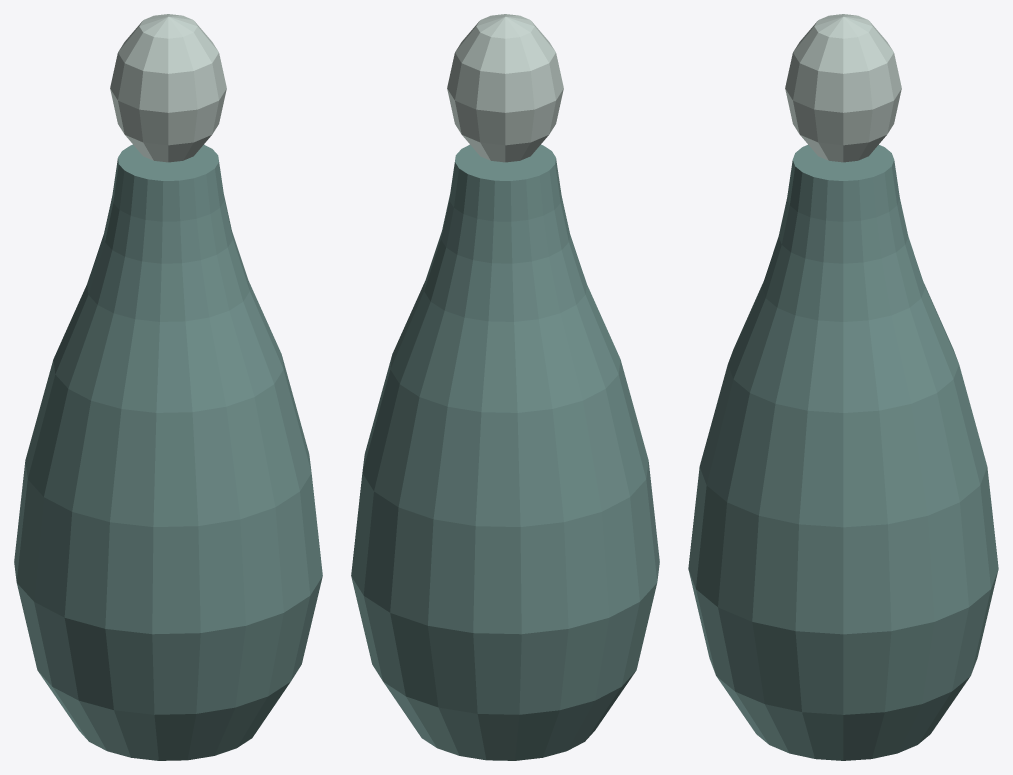
File: grotto_apothecary_bottle_LOD0_roblox.fbx
3 renders of one model, left to right at view 1: azimuth 30°, elevation 25°; view 2: azimuth 150°, elevation 25°; view 3: azimuth 270°, elevation 25°, orthographic.
Parts seen in each view (by area): view 1: apo_Glass, apo_Stopper; view 2: apo_Glass, apo_Stopper; view 3: apo_Glass, apo_Stopper.
Part boxes in pixels (x1=…): apo_Glass: x1=14, y1=144, x2=322, y2=760; apo_Stopper: x1=110, y1=14, x2=226, y2=162; apo_Glass: x1=351, y1=144, x2=659, y2=760; apo_Stopper: x1=447, y1=14, x2=563, y2=162; apo_Glass: x1=688, y1=145, x2=998, y2=760; apo_Stopper: x1=785, y1=14, x2=901, y2=162.
Bounding box in the file's own units: 0.22 × 0.22 × 0.5518.
